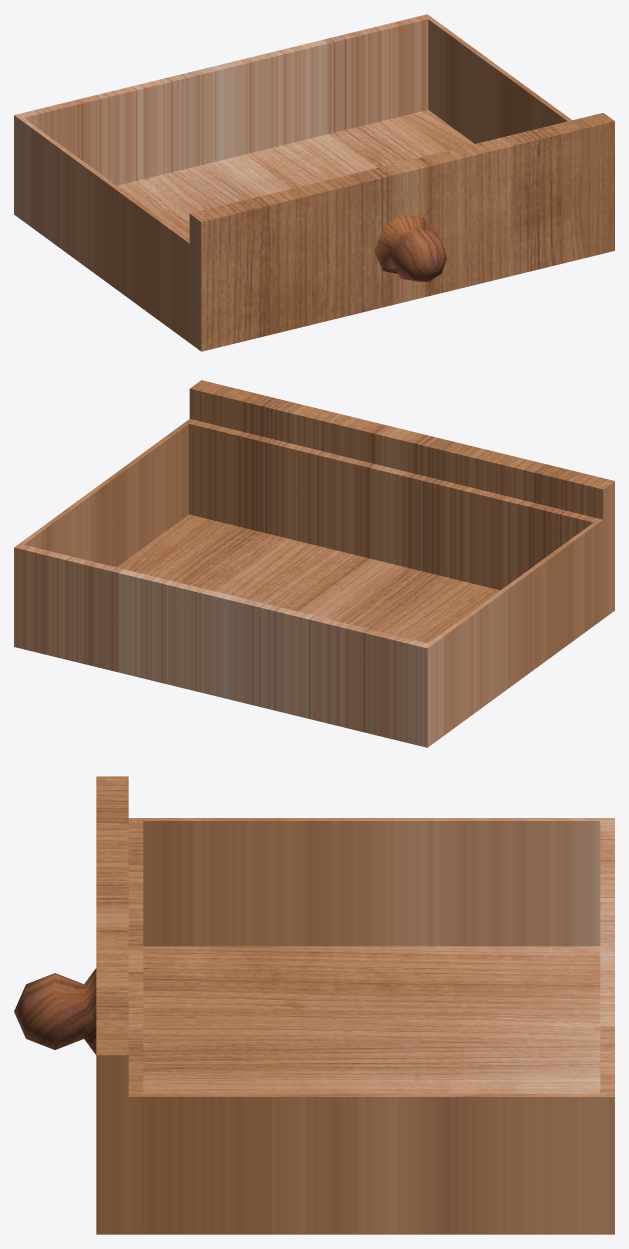
File: drawer_02 1.fbx
3 views of the same model, one above another, from view 1: azimuth 30°, elevation 25°; view 2: azimuth 150°, elevation 25°; view 3: azimuth 270°, elevation 25° (orthographic). The views are drawn at different scales.
Visible parts, largest first — view 1: drawer_02; view 2: drawer_02; view 3: drawer_02.
Boxes of the visible parts, x1,y1,x2,y2 form: drawer_02: (14,14,614,351); drawer_02: (14,380,614,747); drawer_02: (14,776,614,1234).
Bounding box in the file's own units: 18.93 × 5.67 × 17.23.
